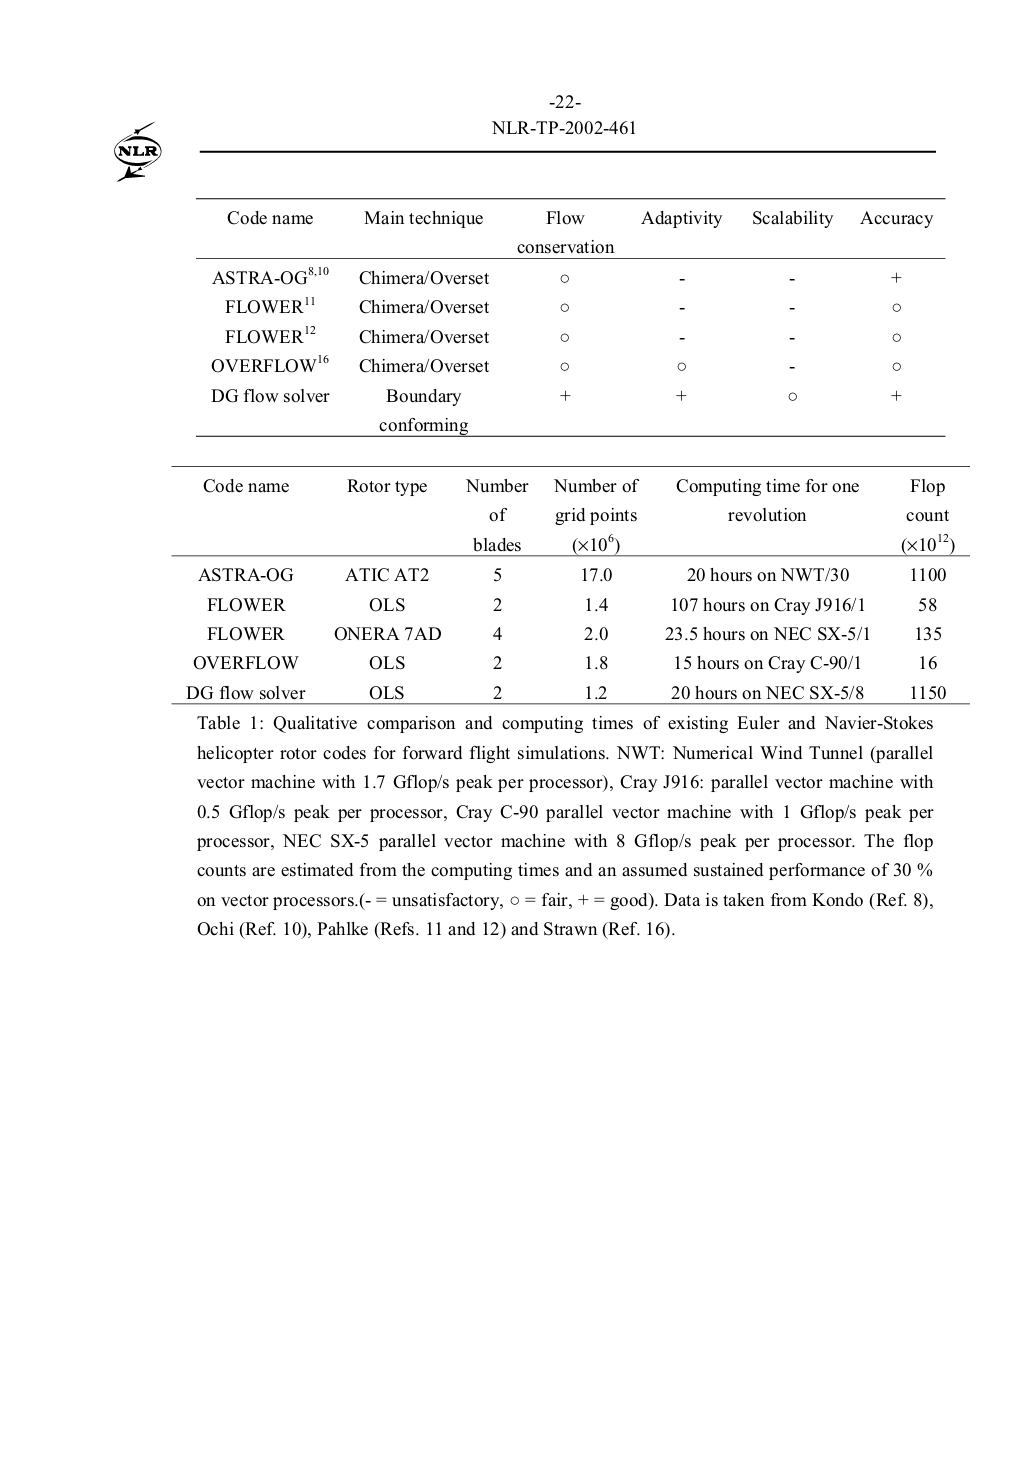Table: (171, 466, 969, 704), (196, 199, 945, 436)
figure: (114, 120, 161, 181)
